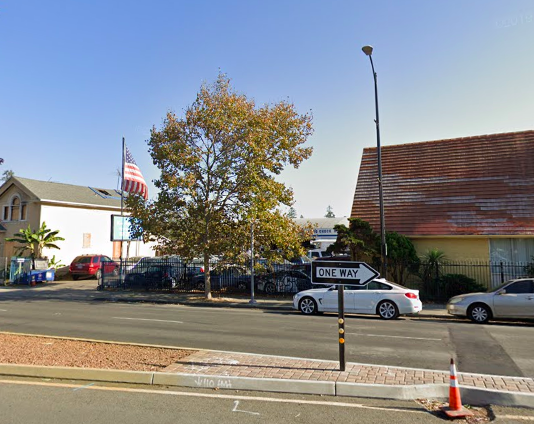tree: (123, 65, 319, 299)
